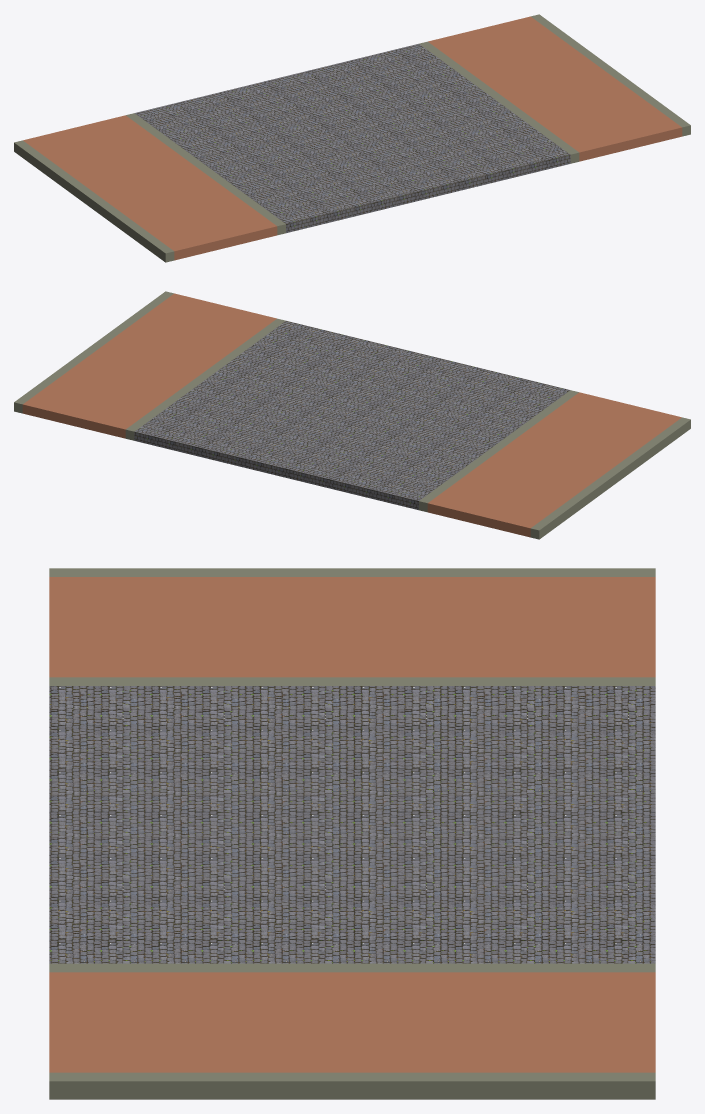
Rendered from body.fbx.
The picture shows the model from 3 angles, top to bottom: view 1: azimuth 30°, elevation 25°; view 2: azimuth 150°, elevation 25°; view 3: azimuth 270°, elevation 25°; orthographic projection. The views are drawn at different scales.
Visible parts, largest first — view 1: body.012; view 2: body.012; view 3: body.012.
Boxes of the visible parts, bbox=[...] form: body.012: bbox=[14, 14, 690, 262]; body.012: bbox=[14, 291, 690, 539]; body.012: bbox=[49, 568, 655, 1099].
Bounding box in the file's own units: 12 × 0.2 × 6.
